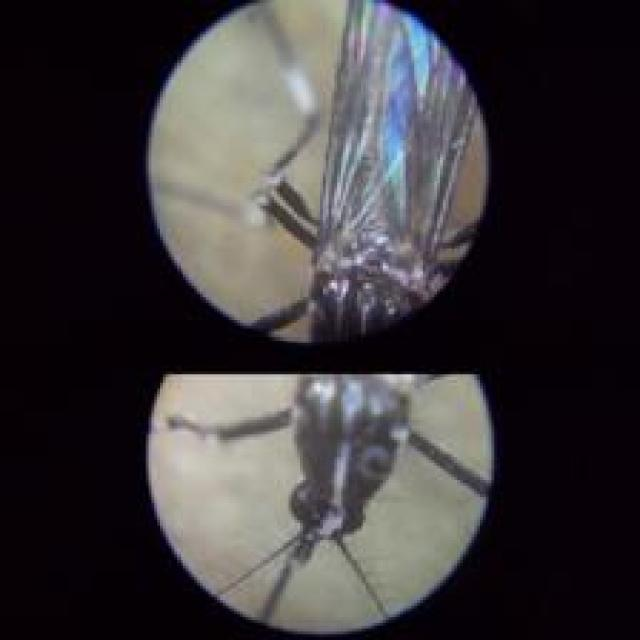Aedes albopictus: (146, 373, 497, 636)
